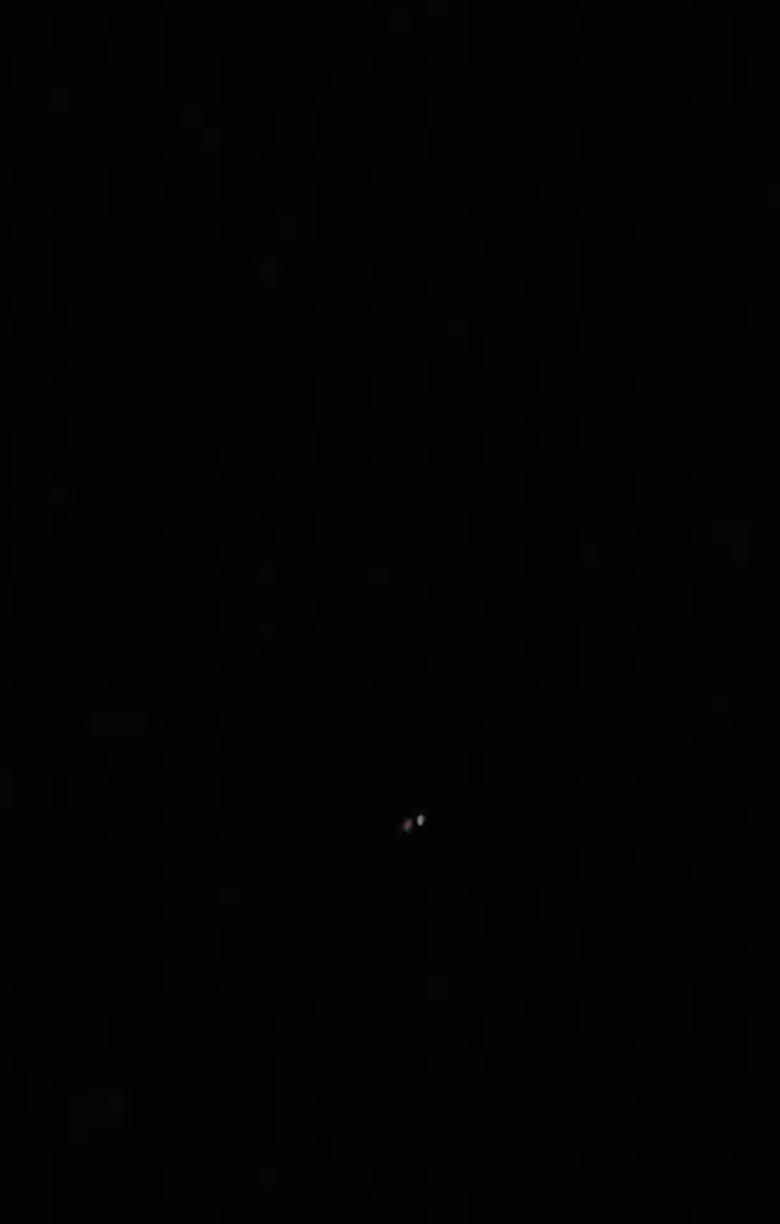Plane: (397, 801, 443, 863)
